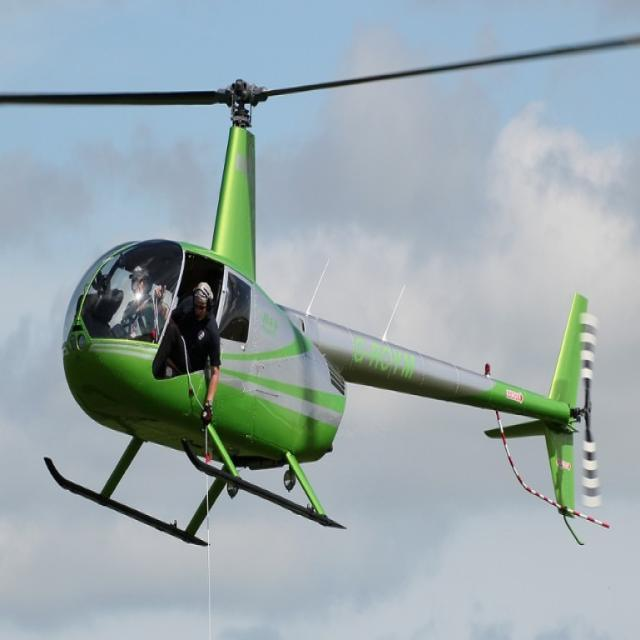CIV_HELO: (42, 74, 594, 554)
